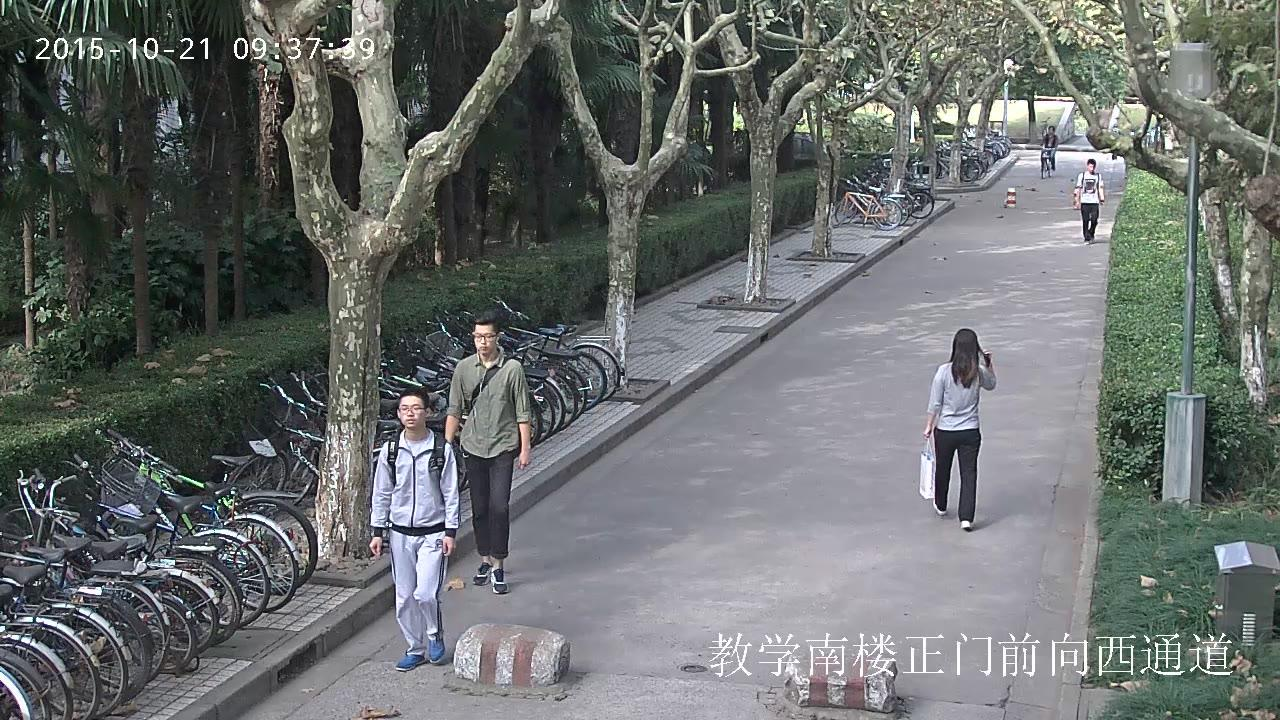person: (367, 388, 460, 672), (444, 310, 532, 595), (920, 328, 995, 532), (1073, 159, 1104, 244), (1040, 124, 1058, 180), (1040, 124, 1057, 171)
